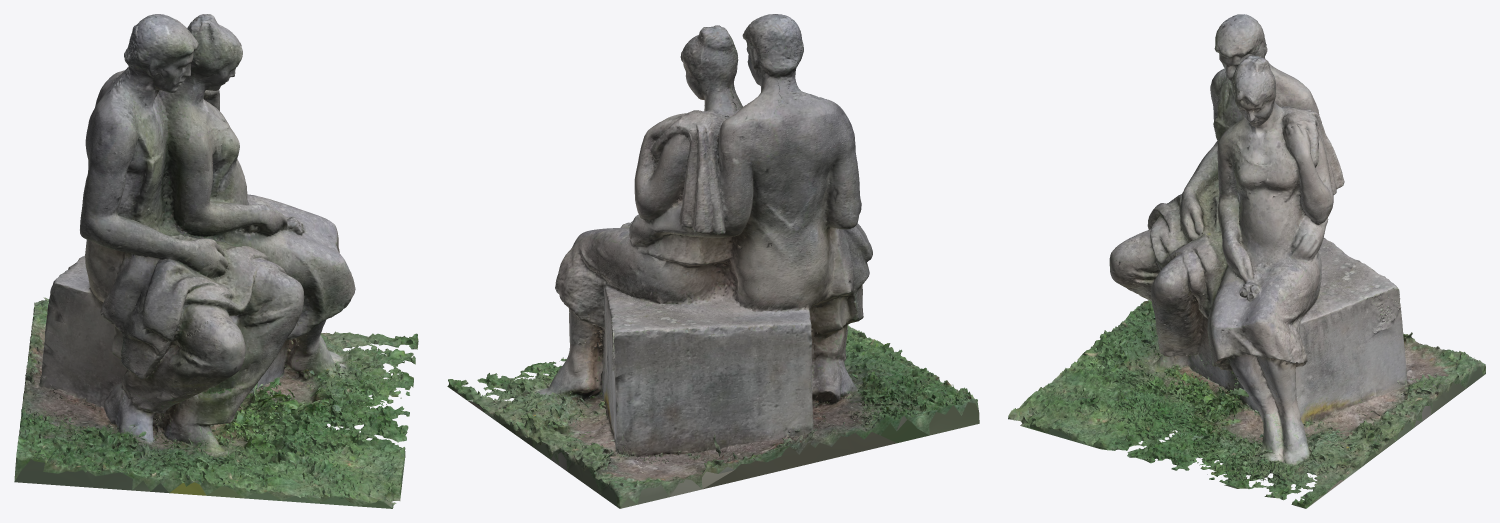
Rendered from preview.glb.
The picture shows the model from 3 angles, left to right: view 1: azimuth 30°, elevation 25°; view 2: azimuth 150°, elevation 25°; view 3: azimuth 270°, elevation 25°; orthographic projection. The views are drawn at different scales.
Visible parts, largest first — view 1: meshNode_Material_u1_v1_0; view 2: meshNode_Material_u1_v1_0; view 3: meshNode_Material_u1_v1_0.
Boxes of the visible parts, x1,y1,x2,y2 form: meshNode_Material_u1_v1_0: (14,14,418,508); meshNode_Material_u1_v1_0: (447,14,979,508); meshNode_Material_u1_v1_0: (1008,14,1485,508).
Bounding box in the file's own units: 26.89 × 23 × 27.18.
1 material, 1 textured.
